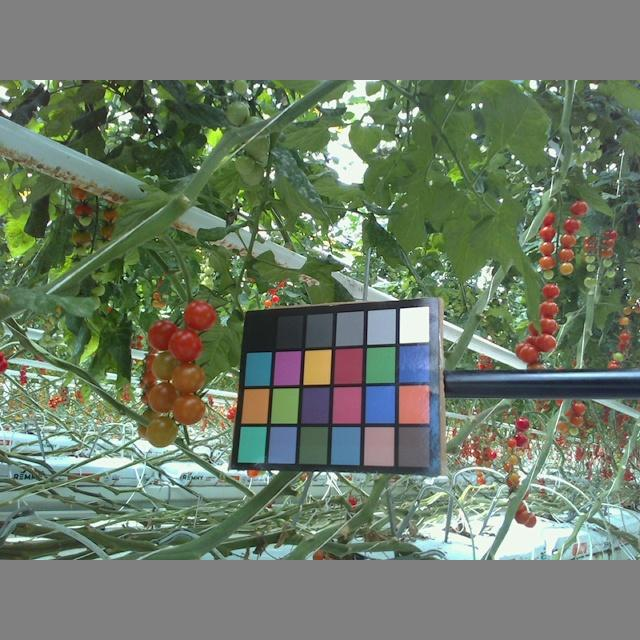green: (151, 353, 182, 381), (246, 131, 271, 160), (226, 100, 249, 128), (243, 165, 268, 186), (231, 155, 255, 176)
pink: (145, 415, 178, 449), (173, 394, 208, 426), (146, 381, 180, 412), (170, 364, 207, 392)
red: (183, 299, 216, 330), (170, 331, 204, 361), (149, 321, 180, 351)
